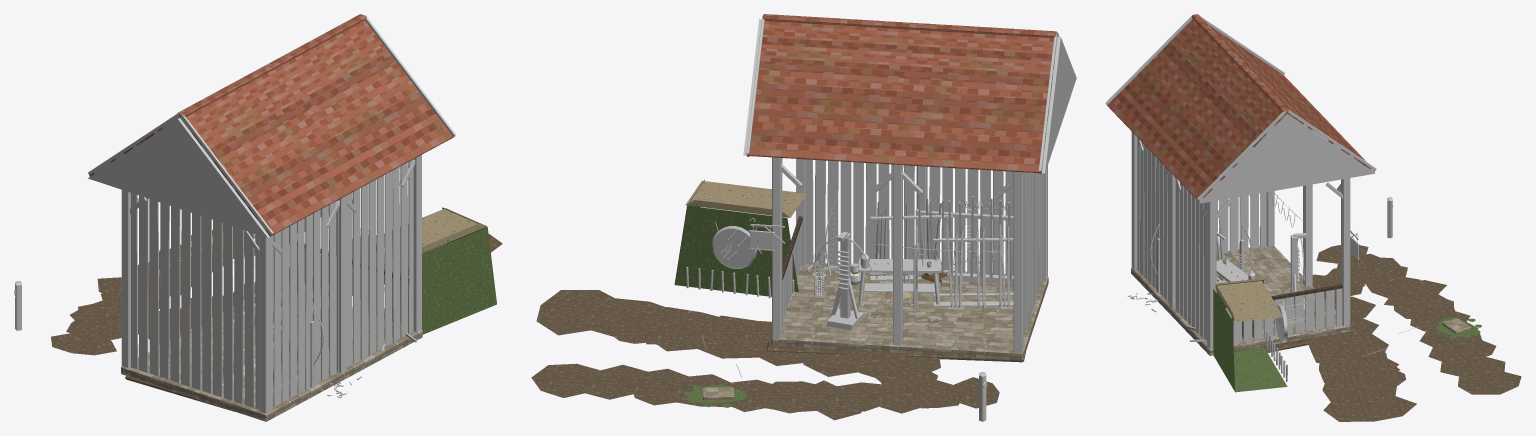
The model's file is bowyer.gltf.
3 views of the same model, side by side, from view 1: azimuth 30°, elevation 25°; view 2: azimuth 150°, elevation 25°; view 3: azimuth 270°, elevation 25° (orthographic). The views are drawn at different scales.
Parts seen in each view (by area): view 1: bowyer#n1_0, bowyer#0_0, bowyer#n1_n1, bowyer#0_n1; view 2: bowyer#n1_0, bowyer#0_n1, bowyer#0_0, bowyer#n1_n1; view 3: bowyer#n1_0, bowyer#0_n1, bowyer#0_0, bowyer#n1_n1.
Boxes of the visible parts, x1,y1,x2,y2 form: bowyer#n1_0: (70, 14, 455, 421); bowyer#0_0: (244, 207, 496, 370); bowyer#n1_n1: (14, 247, 212, 355); bowyer#0_n1: (97, 200, 502, 345); bowyer#n1_0: (743, 14, 1076, 408); bowyer#0_n1: (531, 218, 940, 420); bowyer#0_0: (674, 180, 947, 330); bowyer#n1_n1: (725, 372, 999, 421); bowyer#n1_0: (1105, 14, 1403, 355); bowyer#0_n1: (1308, 230, 1521, 421); bowyer#0_0: (1185, 233, 1307, 392); bowyer#n1_n1: (1316, 197, 1467, 330).
Size of the model in its own units: 12.1 by 7.47 by 11.56.
